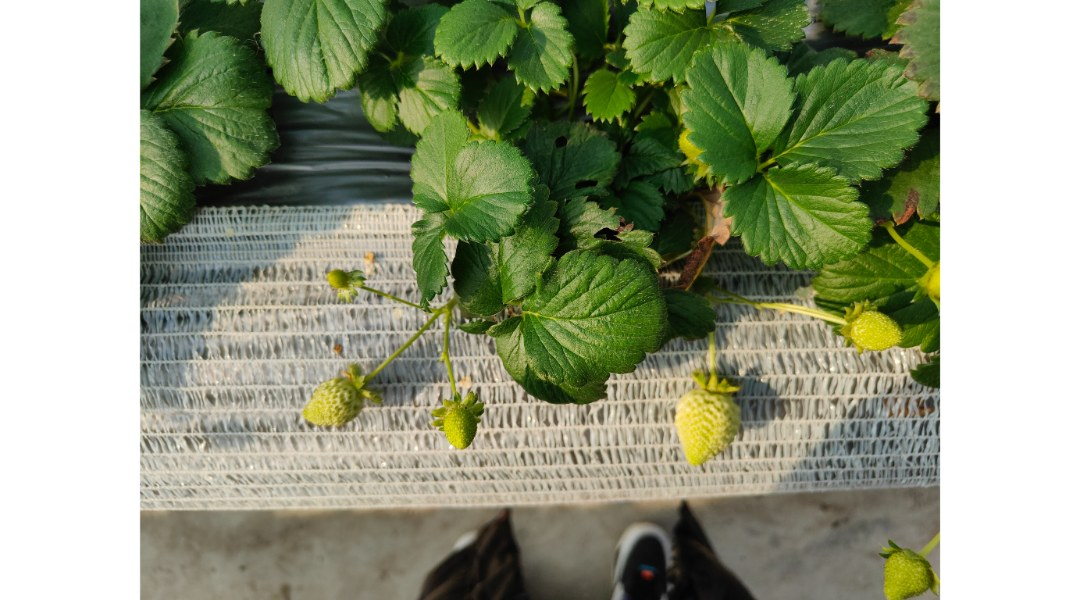berry: (671, 379, 748, 479), (284, 365, 368, 440), (841, 302, 910, 363), (870, 541, 941, 600), (431, 388, 484, 457), (322, 260, 370, 299)
strain: (357, 317, 435, 404), (767, 300, 856, 327), (701, 322, 725, 386), (887, 227, 924, 262)
